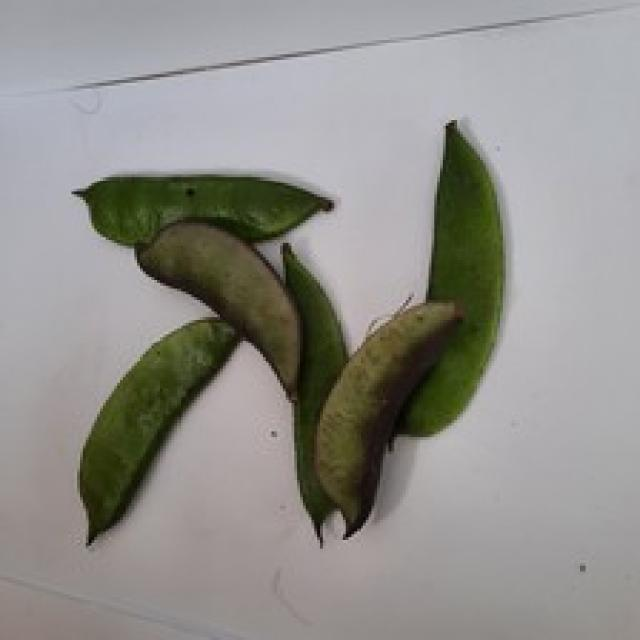Bean: (311, 294, 463, 537), (74, 318, 242, 534), (394, 117, 506, 437), (140, 218, 309, 386), (277, 240, 349, 546), (80, 163, 328, 238)
